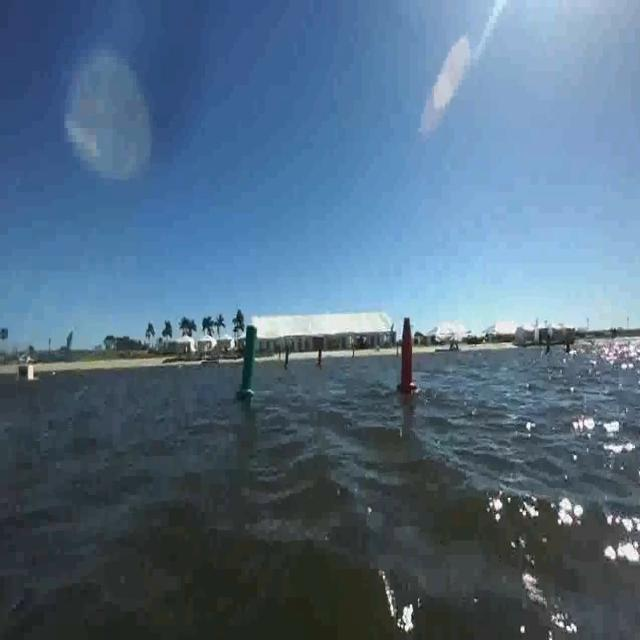green-column-buoy: (238, 323, 260, 399), (283, 347, 291, 370)
red-column-buoy: (398, 315, 418, 393), (316, 344, 324, 368)
